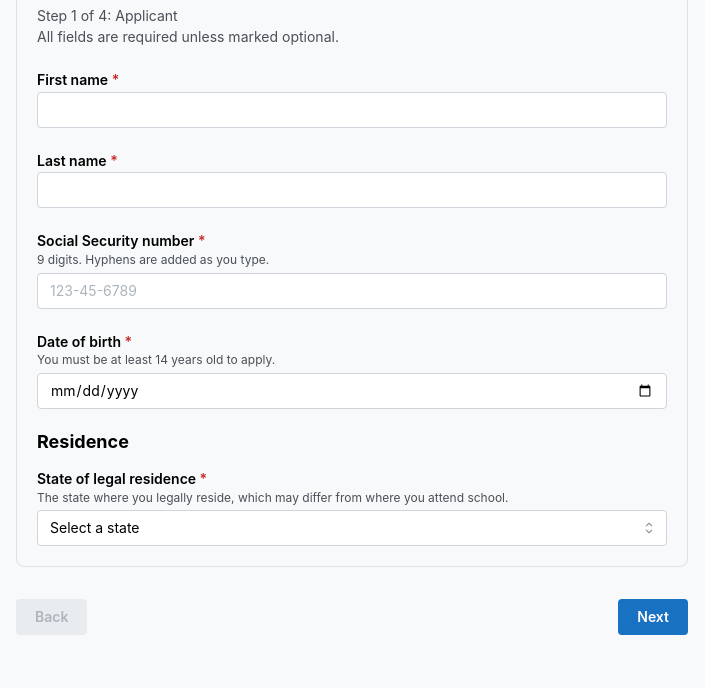
it: accessibility of each step › has no violations while errors are on screen
The image size is (705, 688).
(page scrolled)
Step 1. Click the button "Next" → click(653, 617), box [618, 599, 688, 635]
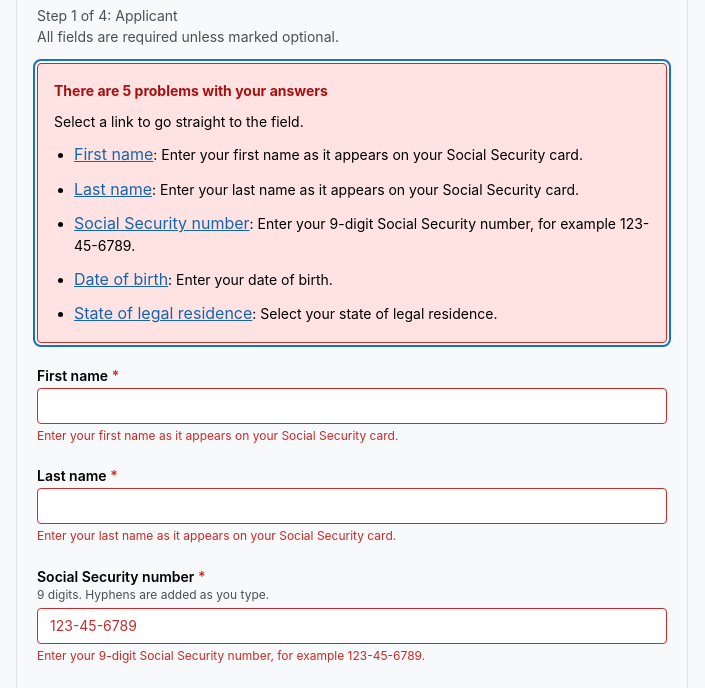
Now the message that starts with "There are 5 problems with your answers" is shown, box [37, 63, 667, 343]
